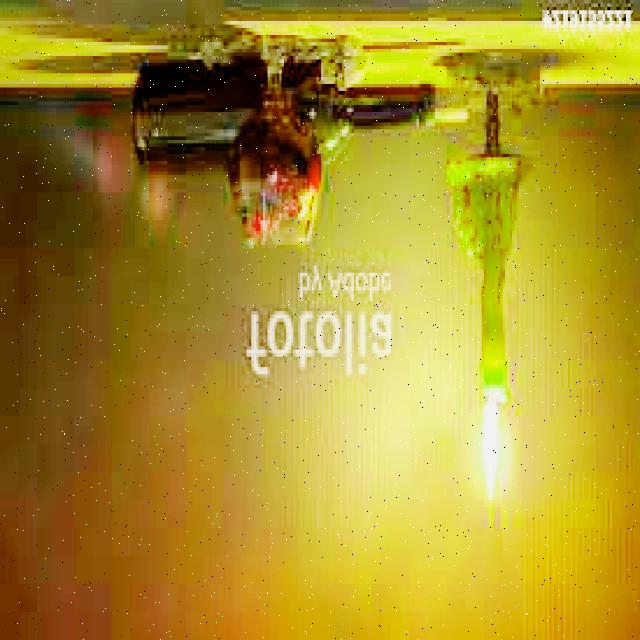api: (464, 396, 513, 508)
